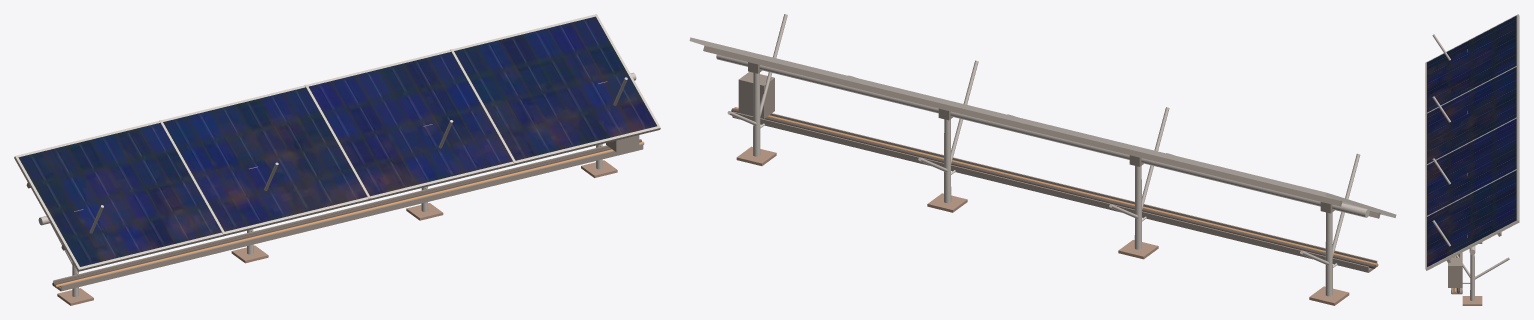
File: E02_solar_row_10m.glb
3 renders of one model, left to right at view 1: azimuth 30°, elevation 25°; view 2: azimuth 150°, elevation 25°; view 3: azimuth 270°, elevation 25°, orthographic. The views are drawn at different scales.
Parts seen in each view (by area): view 1: solar_cells, panel_frame, purlin, cable, post_foot; view 2: panel_frame, purlin, cable, post_foot; view 3: solar_cells, panel_frame, purlin, post_foot.
Boxes of the visible parts, box(x1,y1,x2,y2) form: solar_cells: box(18, 16, 656, 266); panel_frame: box(14, 14, 660, 297); purlin: box(26, 81, 643, 291); cable: box(52, 139, 644, 287); post_foot: box(57, 160, 617, 305); panel_frame: box(689, 14, 1396, 296); purlin: box(703, 45, 1380, 272); cable: box(731, 107, 1378, 268); post_foot: box(736, 146, 1349, 305); solar_cells: box(1427, 16, 1516, 266); panel_frame: box(1425, 14, 1519, 300); purlin: box(1446, 49, 1501, 294); post_foot: box(1462, 242, 1482, 305).
Size of the model in its own units: 10.2 by 2.08 by 1.94.
Materials: 5 (1 with a texture image).
